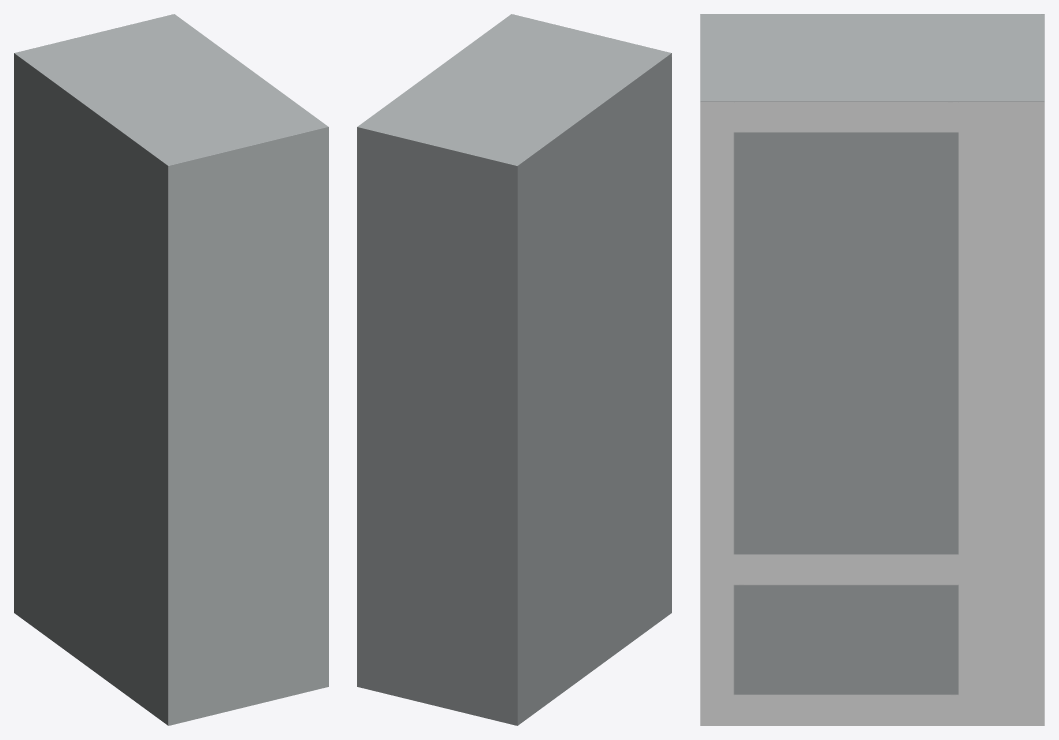
The model's file is vendingmachine.obj.
3 views of the same model, side by side, from view 1: azimuth 30°, elevation 25°; view 2: azimuth 150°, elevation 25°; view 3: azimuth 270°, elevation 25° (orthographic). The views are drawn at different scales.
Parts seen in each view (by area): view 1: cube; view 2: cube; view 3: cube.
Part boxes in pixels (box(x1,y1,x2,y2)): cube: box(14, 14, 328, 725); cube: box(357, 14, 671, 725); cube: box(700, 14, 1044, 725).
Bounding box in the file's own units: 1.2 × 4 × 2.
